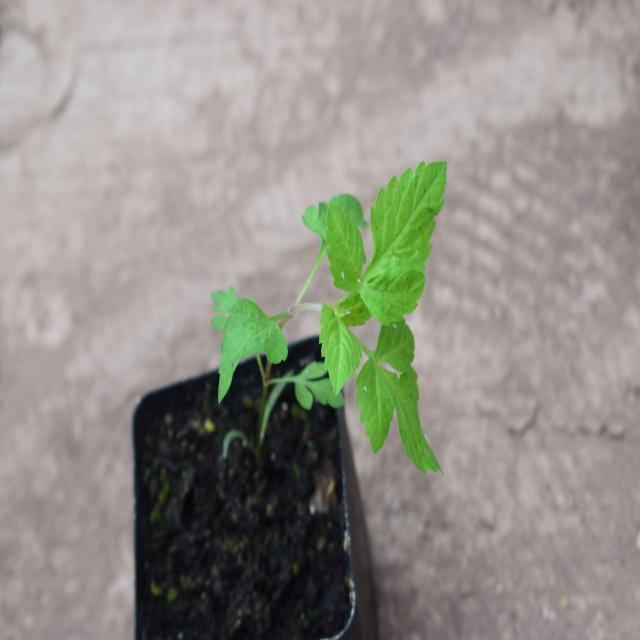Bidens pilosa: (207, 135, 474, 504)
